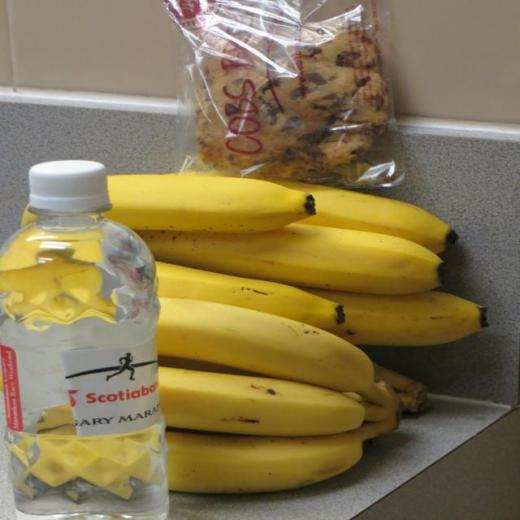Banana: (0, 179, 489, 494), (156, 258, 344, 331)
